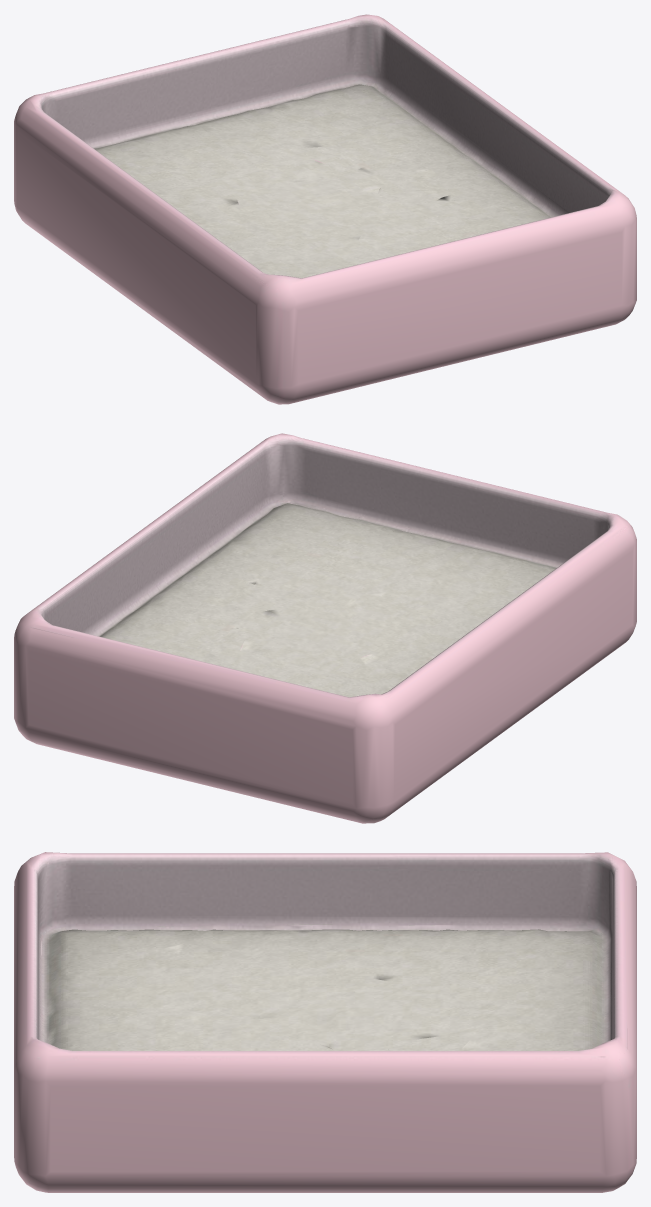
File: litter_box.fbx
3 renders of one model, top to bottom at view 1: azimuth 30°, elevation 25°; view 2: azimuth 150°, elevation 25°; view 3: azimuth 270°, elevation 25°, orthographic. The views are drawn at different scales.
Visible parts, largest first — view 1: litter_box.001; view 2: litter_box.001; view 3: litter_box.001.
Boxes of the visible parts, bbox=[...] form: litter_box.001: bbox=[14, 14, 636, 404]; litter_box.001: bbox=[14, 433, 636, 823]; litter_box.001: bbox=[14, 852, 636, 1192].
Size of the model in its own units: 0.42 by 0.1382 by 0.52.
1 material, 1 textured.
